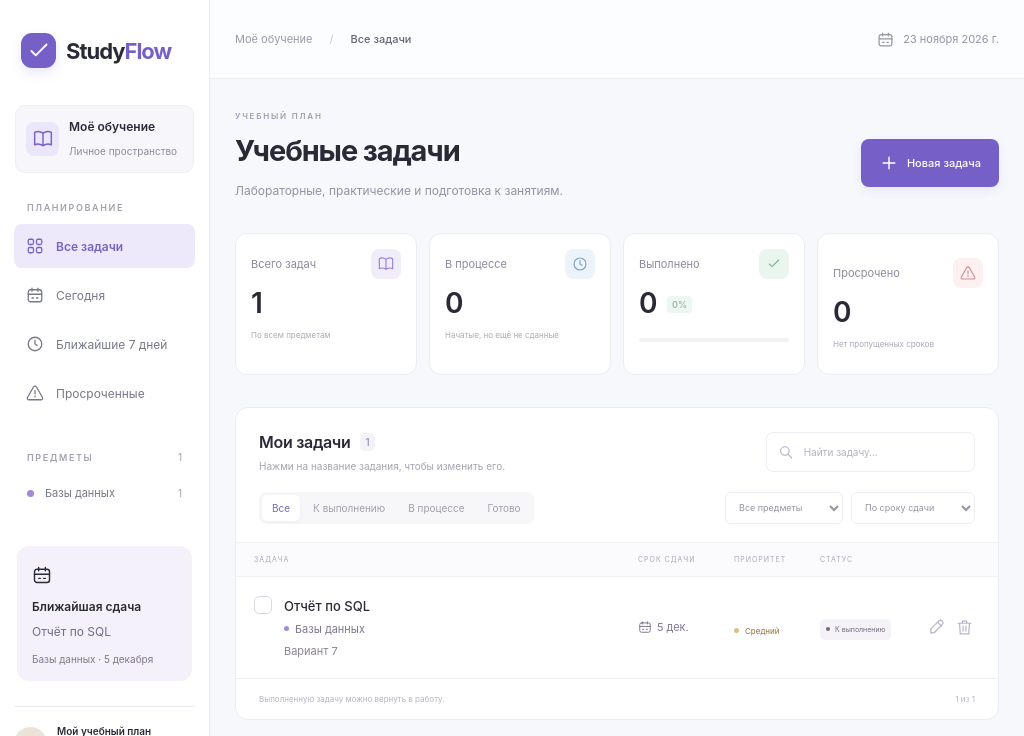
Работа с заданиями › фильтрует завершённую задачу после успешного ответа сервера
This screenshot has width=1024, height=736.
Expected: the button "Отчёт по SQL" is shown, 284,595 -> 370,617
Click the button named "Отметить выполненной: Отчёт по SQL": (263, 605) 254,596 -> 272,614
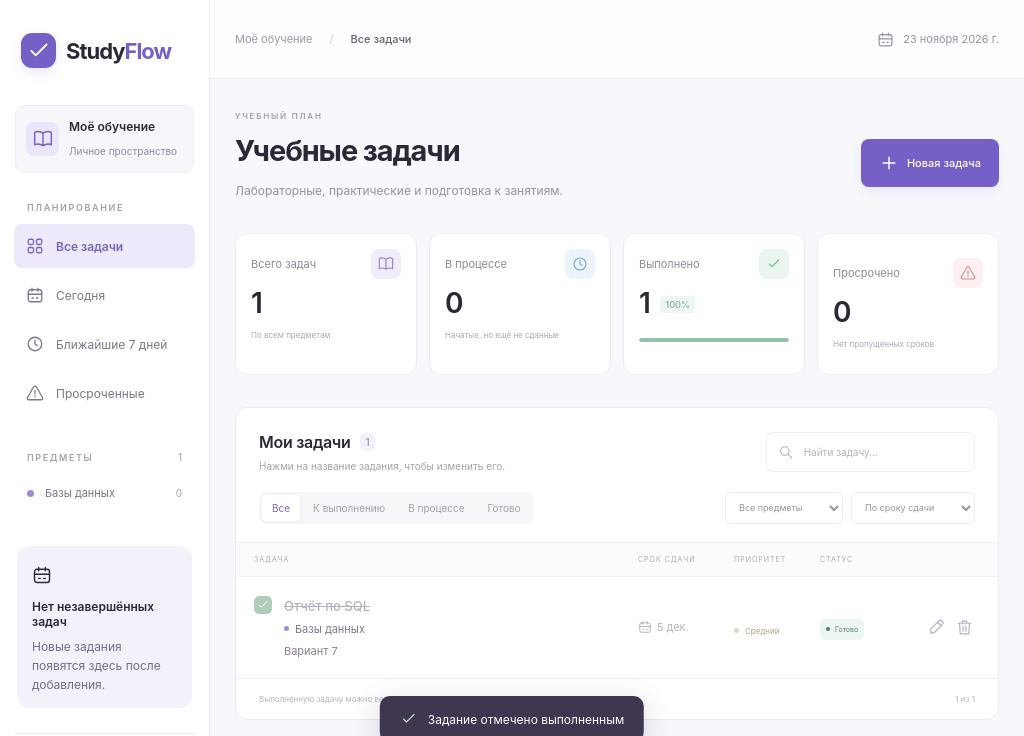
Click the button "К выполнению": (349, 508) 303,495 -> 395,521
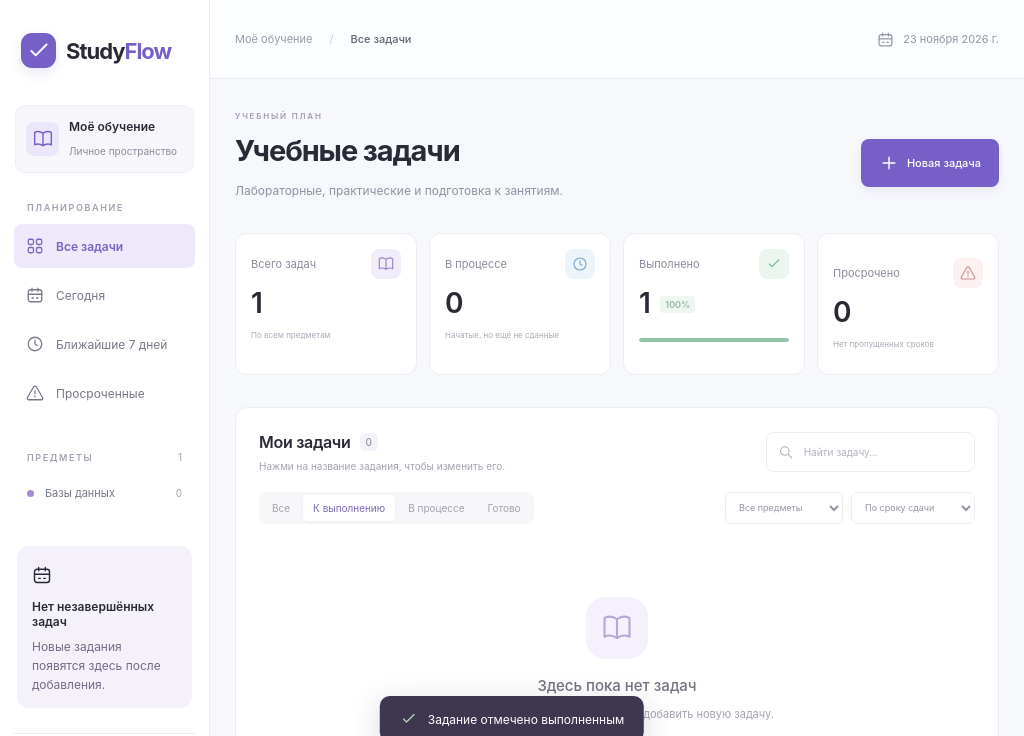
Expected: the button "Отчёт по SQL" is gone
Click the button "Готово": (504, 508) 478,495 -> 531,521
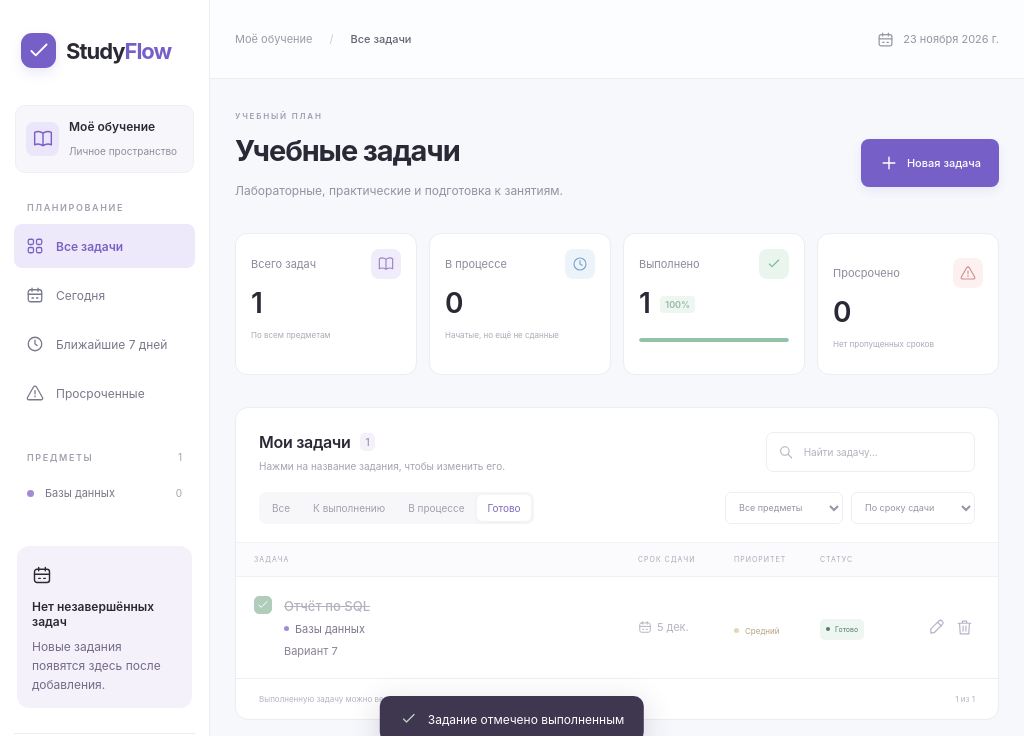
Expected: the button "Отчёт по SQL" is shown, 284,595 -> 370,617
